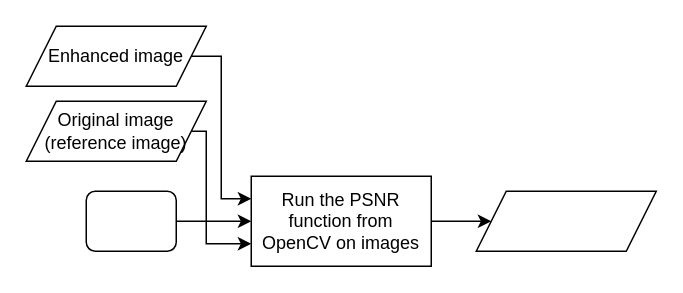
Some shapes in this 683 by 293 pixel diagram are drawn without their labels. The shapes that lost their labels are listed below. From the top down, each one's box as (x1, y1, x2, y2) in pixels, then its label:
(85, 190, 176, 251): Start
(475, 190, 656, 251): Print outputs
